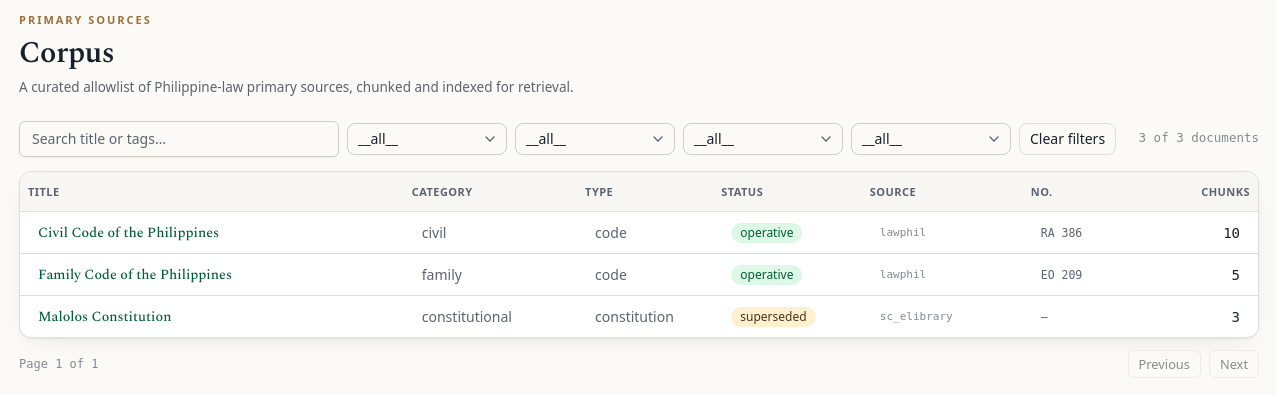
Scenario: search narrows rows by title substring
The image size is (1276, 395).
Check: the link "Civil Code of the Philippines" is shown, box [38,222,219,243]
In the field with placeholder "Search title or tags…": (179, 139) [19,121,339,157], type "family"
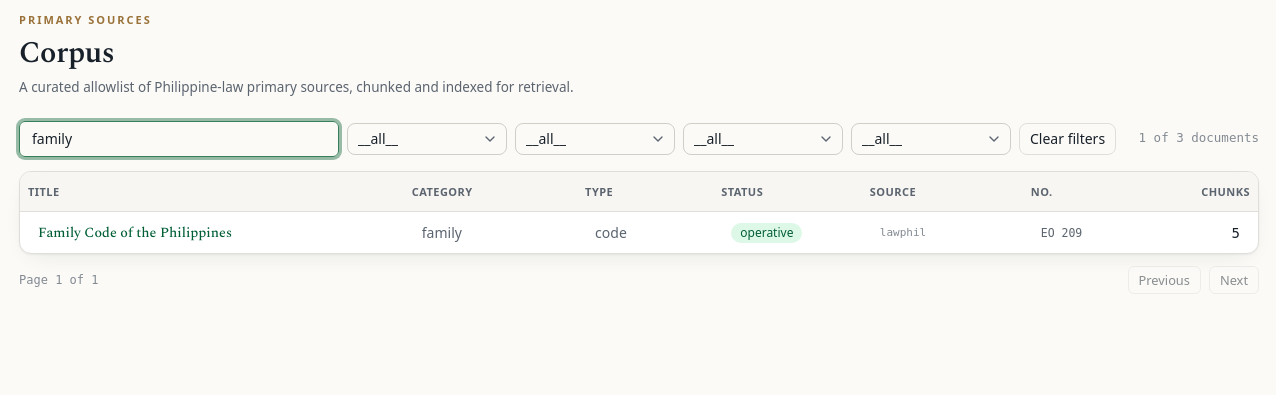
Check: the link "Civil Code of the Philippines" is gone
Check: the link "Family Code of the Philippines" is shown, box [38,222,232,243]
Check: the text "1 of 3 documents" is shown, box [1139,129,1259,148]
